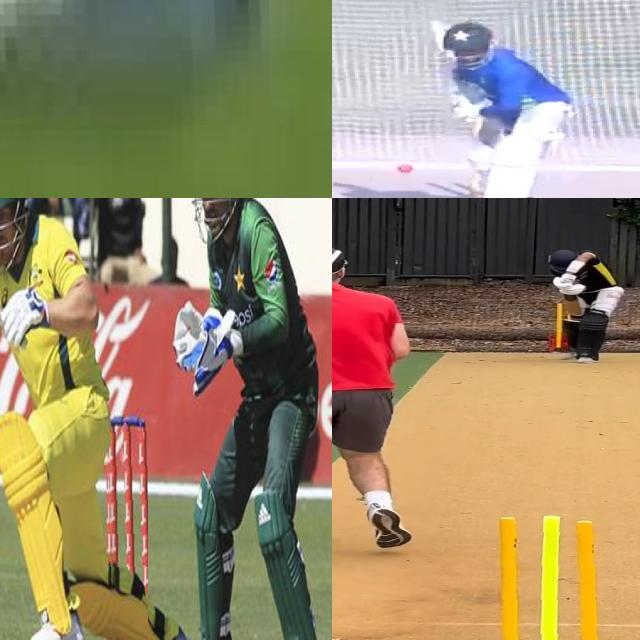Cricket ball: (0, 0, 269, 125), (394, 162, 416, 174)
Stumps: (479, 514, 611, 640), (105, 415, 148, 640)
